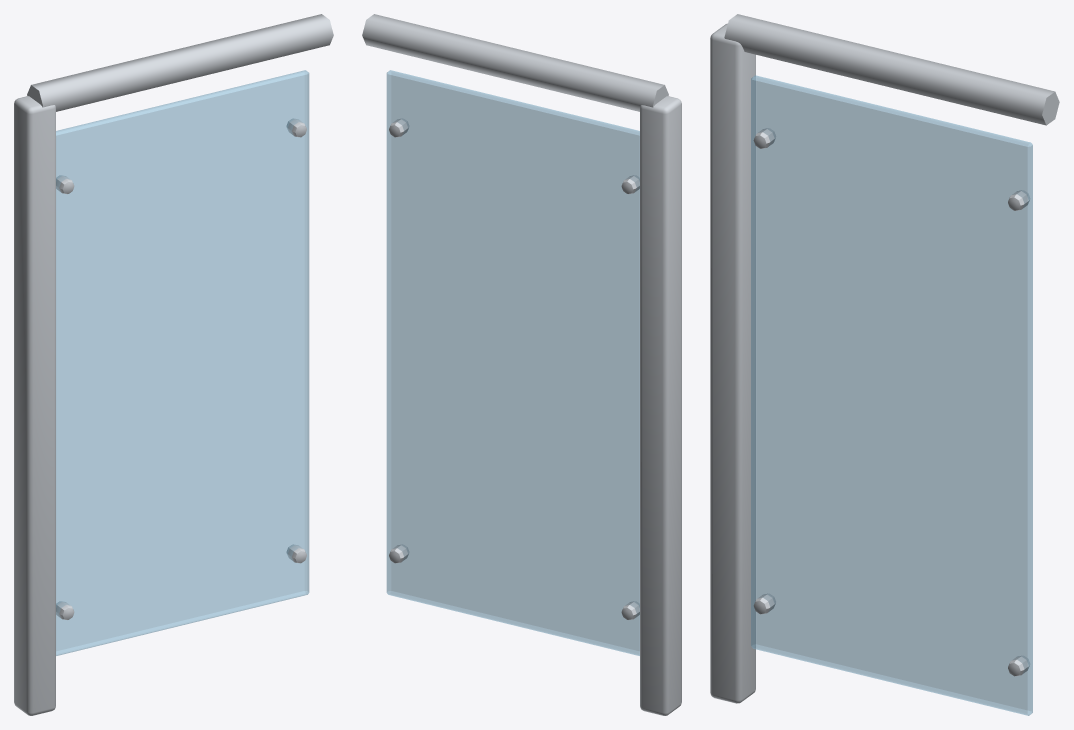
File: guarda_corpo_vidro_0_5m.glb
The picture shows the model from 3 angles, left to right: view 1: azimuth 30°, elevation 25°; view 2: azimuth 150°, elevation 25°; view 3: azimuth 330°, elevation 25°; orthographic projection. The views are drawn at different scales.
Parts seen in each view (by area): view 1: guarda_corpo_vidro_0_5m; view 2: guarda_corpo_vidro_0_5m; view 3: guarda_corpo_vidro_0_5m.
Part boxes in pixels (<box>): guarda_corpo_vidro_0_5m: <box>14,14,333,715</box>; guarda_corpo_vidro_0_5m: <box>362,14,681,715</box>; guarda_corpo_vidro_0_5m: <box>710,14,1059,715</box>.
Size of the model in its own units: 0.525 by 1.02 by 0.05.
2 materials, 1 textured.
